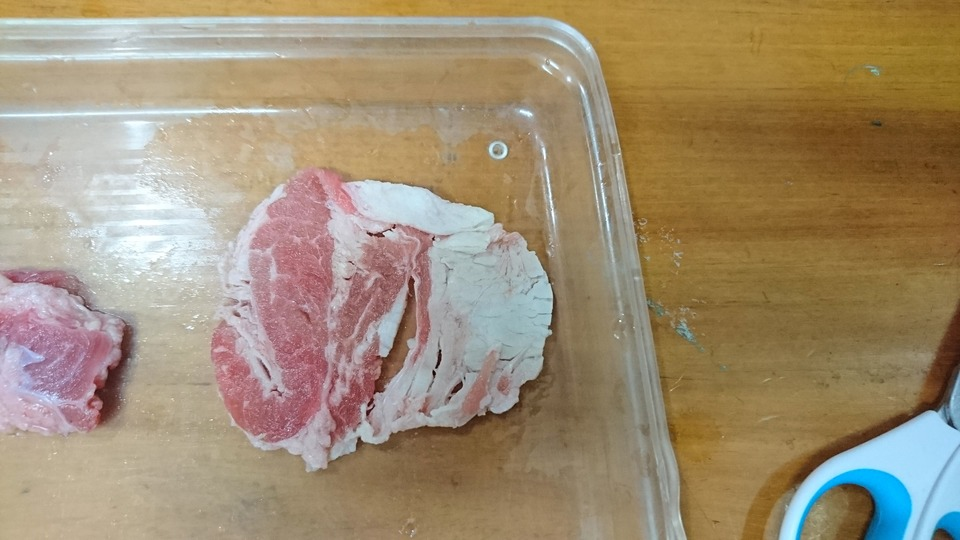restructured meat: (214, 163, 558, 480)
